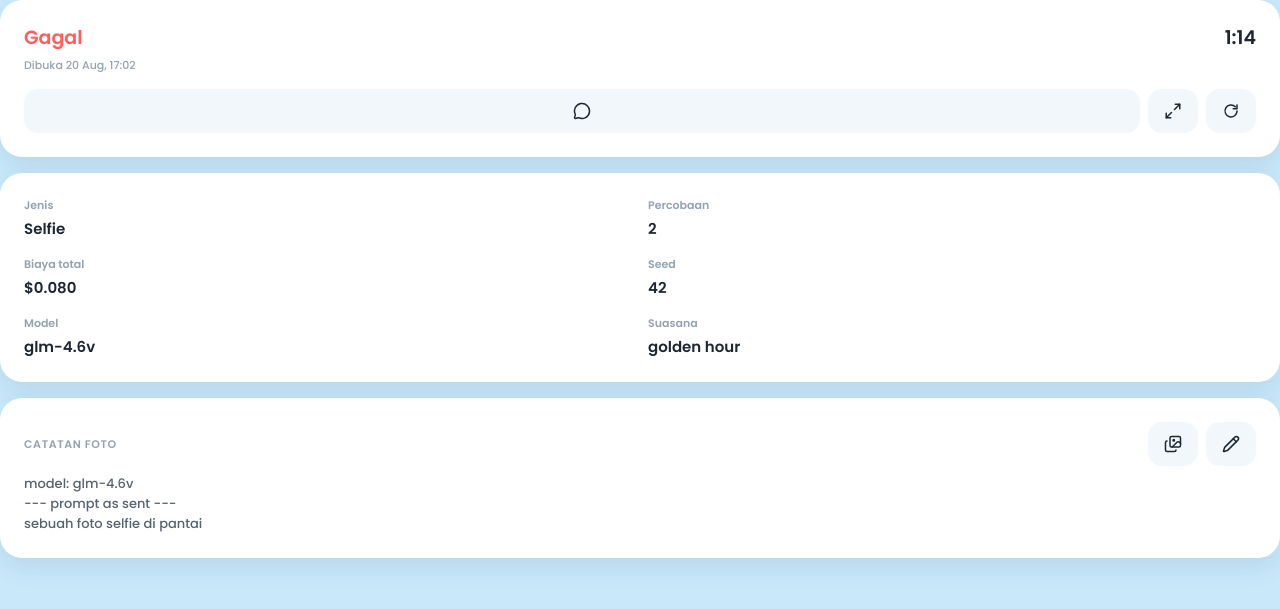
Test case: NinaJobDetail › a refusal renders its sentence and never navigates
Click the button named "Coba lagi" at coordinates (1231, 111), box [1206,89,1256,133]
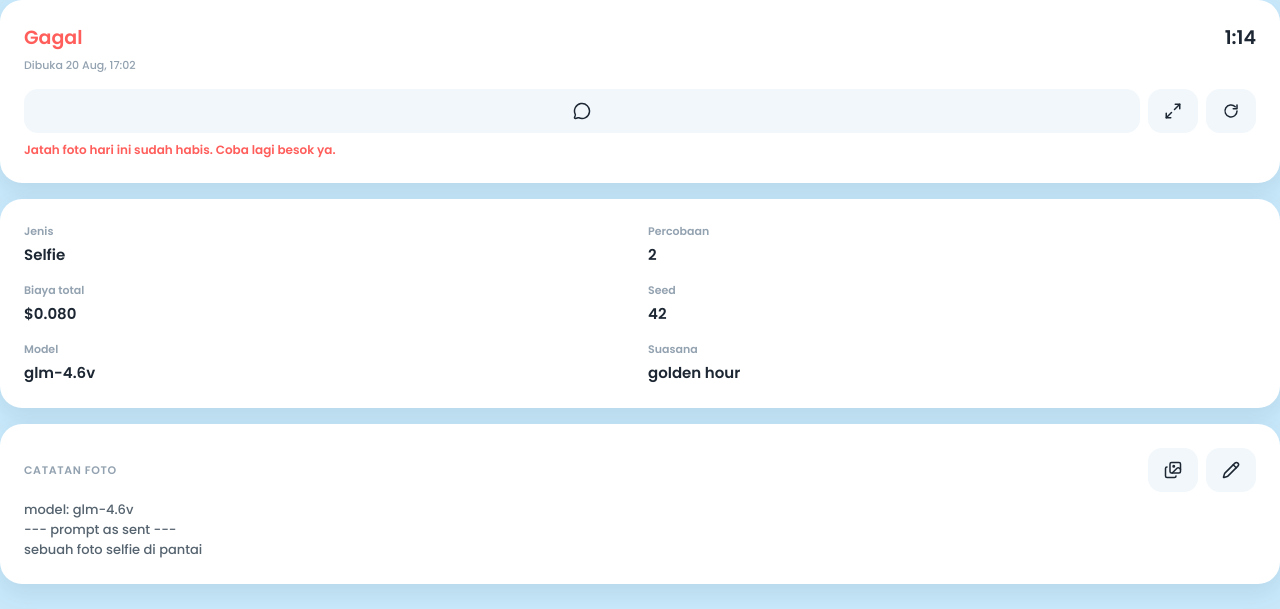
expect the message reads "Jatah foto hari ini sudah habis. Coba lagi besok ya.": met, box [24,141,336,158]
